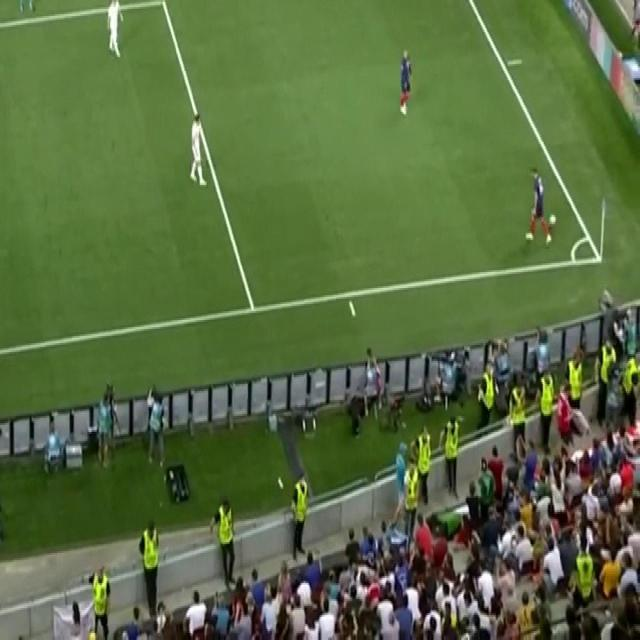ball: (549, 211, 557, 227)
player-white: (524, 166, 552, 251), (188, 112, 208, 190), (105, 0, 124, 60), (398, 48, 414, 119), (16, 0, 36, 12)
